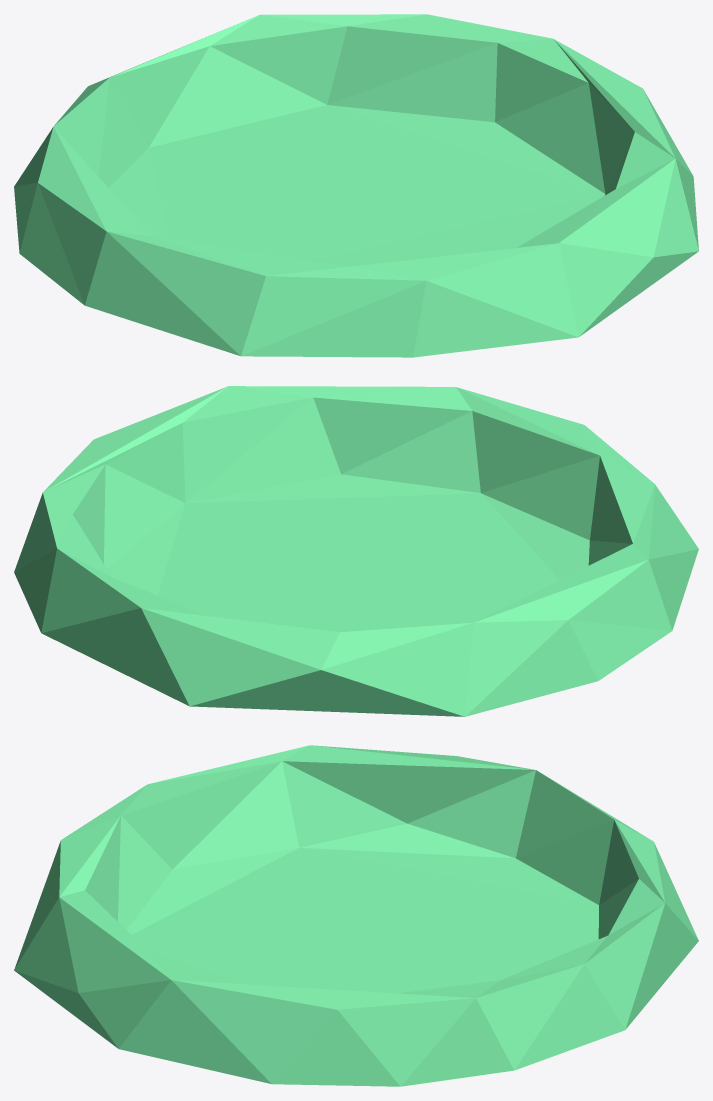
Rendered from crater.fbx.
3 renders of one model, top to bottom at view 1: azimuth 30°, elevation 25°; view 2: azimuth 150°, elevation 25°; view 3: azimuth 270°, elevation 25°, orthographic. The views are drawn at different scales.
Parts seen in each view (by area): view 1: PM3D_Cube3D_1; view 2: PM3D_Cube3D_1; view 3: PM3D_Cube3D_1.
Boxes of the visible parts, box(x1,y1,x2,y2) form: PM3D_Cube3D_1: box(14, 14, 698, 357); PM3D_Cube3D_1: box(14, 386, 698, 716); PM3D_Cube3D_1: box(14, 745, 698, 1086).
Bounding box in the file's own units: 1.89 × 0.2392 × 1.92.
